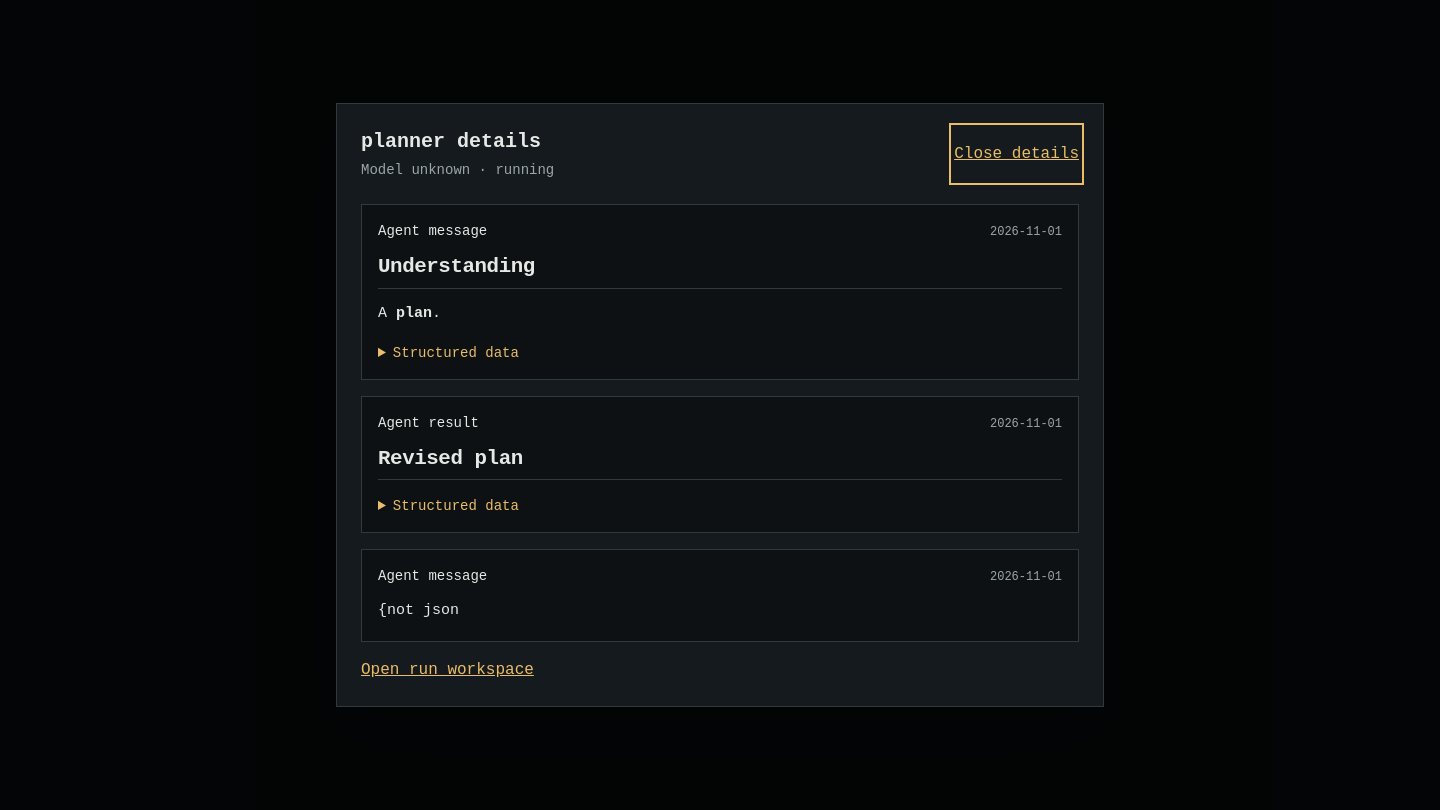
it: renders structured plan markdown and retains the full data
expect the heading "Understanding" is shown: met, box left=378, top=254, right=1062, bottom=289
expect the heading "Revised plan" is shown: met, box left=378, top=445, right=1062, bottom=480
Click the heading "Structured data" below "Understanding" at (456, 353), box left=393, top=345, right=519, bottom=361
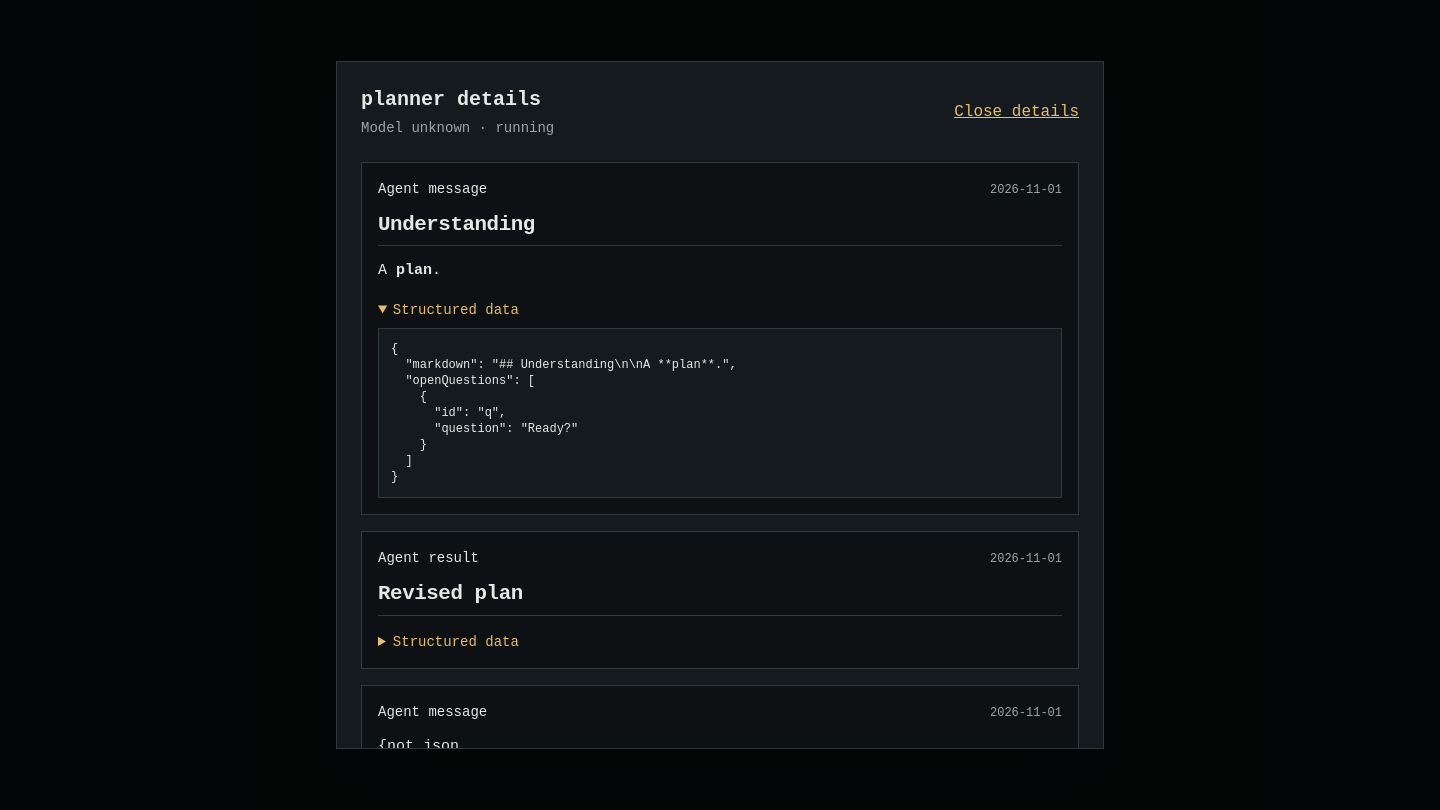
expect the text "Ready?" shows "\"openQuestions\"": met, box left=391, top=342, right=737, bottom=484
Click the heading "Structured data" below "Revised plan" at (456, 642), box left=393, top=634, right=519, bottom=650
(page scrolled)
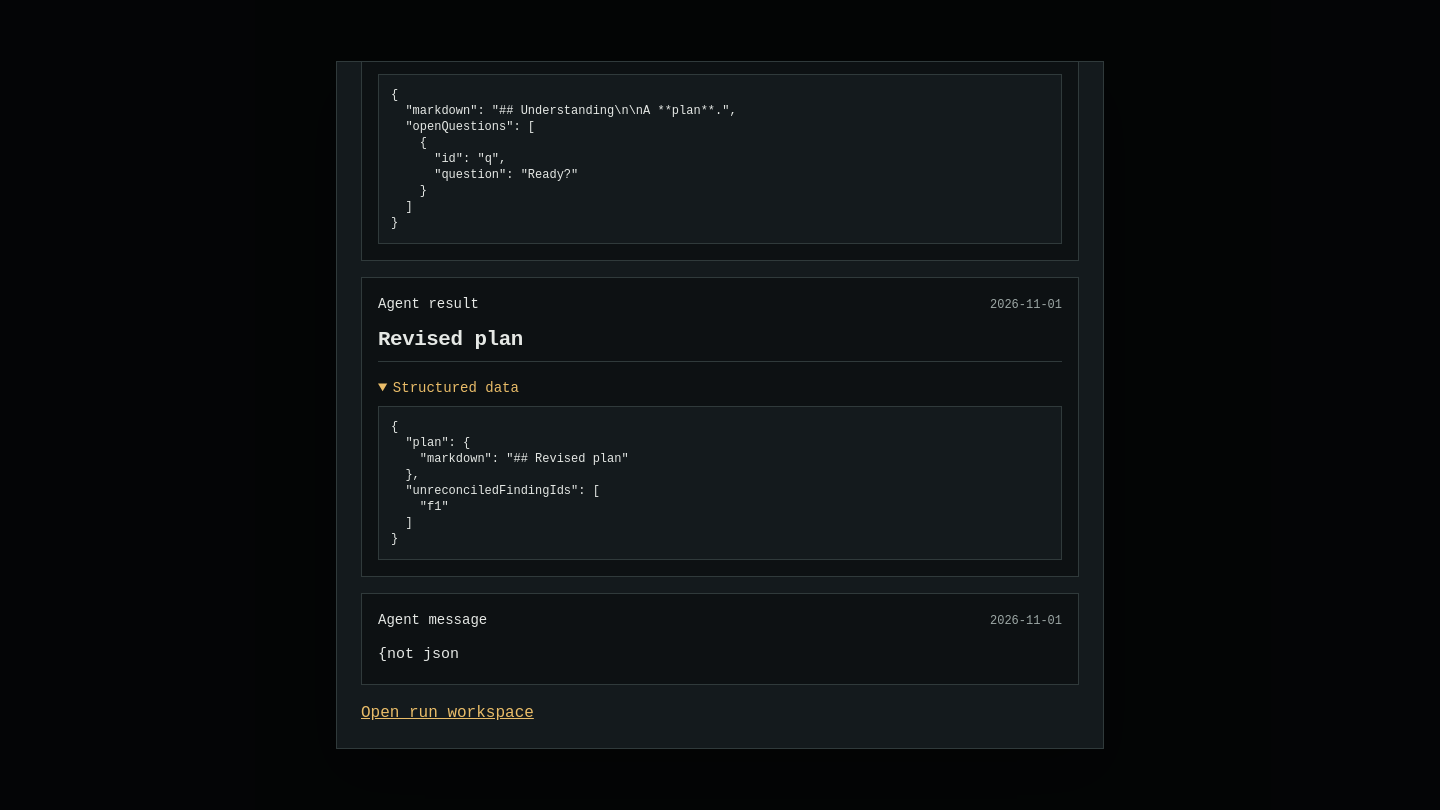
expect the text "unreconciledFindingIds" shows "f1": met, box left=391, top=420, right=629, bottom=546
